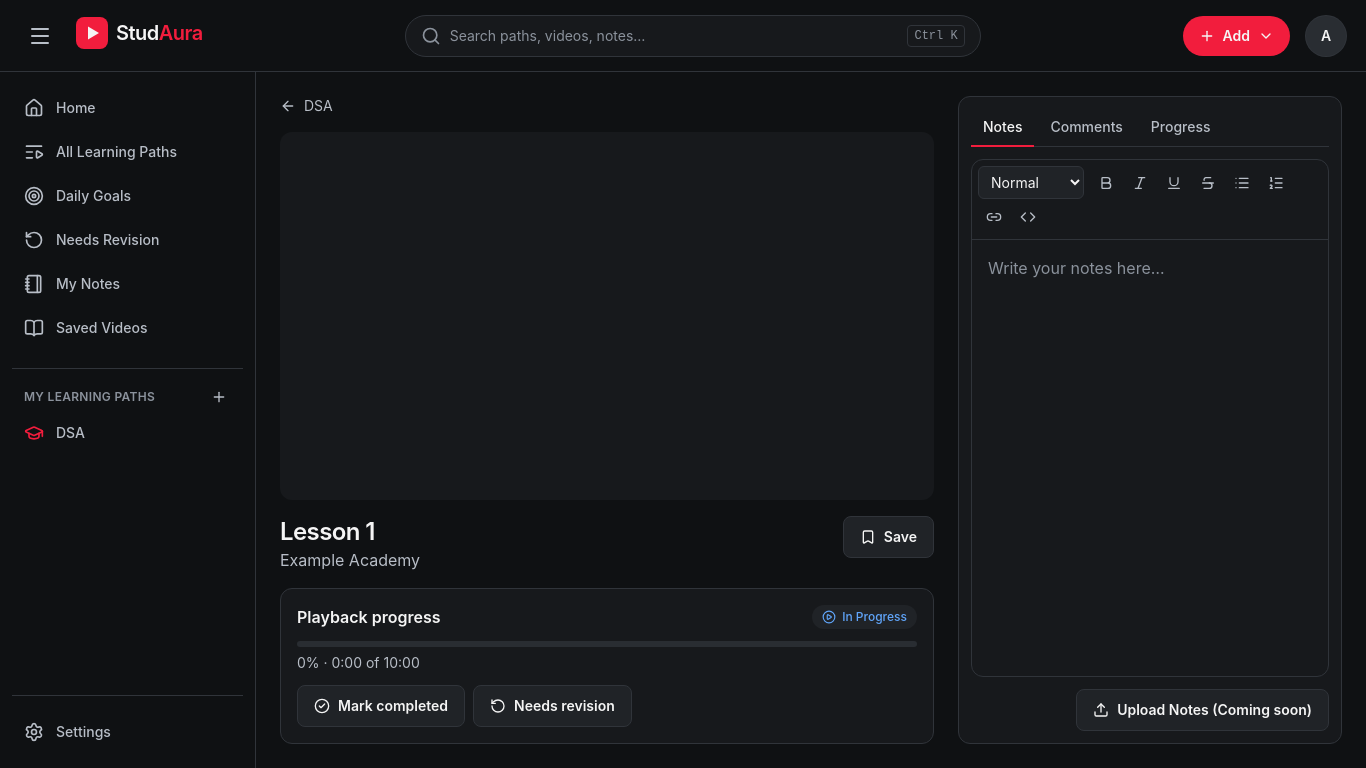
Scenario: saving a video › offers a Save button that bookmarks the video being watched
The image size is (1366, 768).
Expected: the heading "Lesson 1" is shown, [280,517,375,546]
Click the button "Save" at {"x": 888, "y": 537}, box [843,516,934,558]
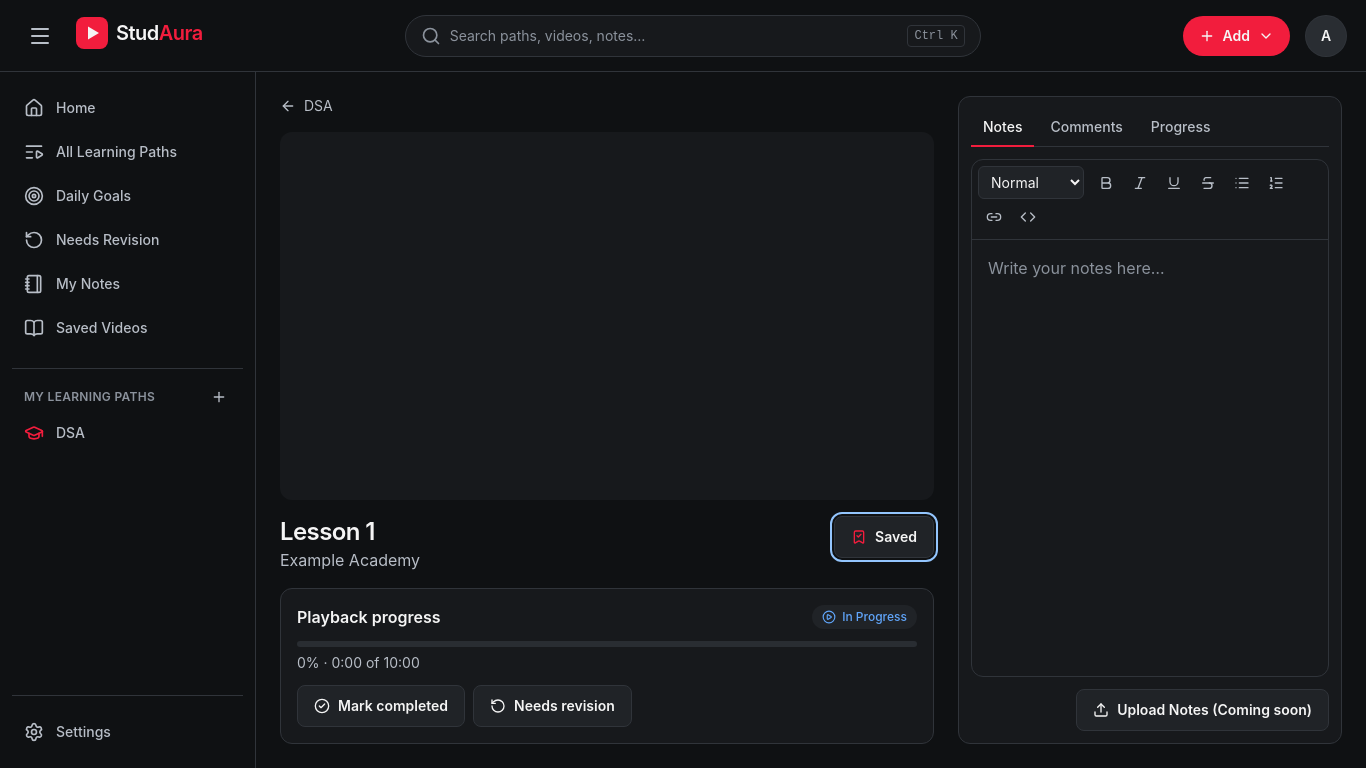
Expected: the button "Saved" is shown, [834,516,934,558]
